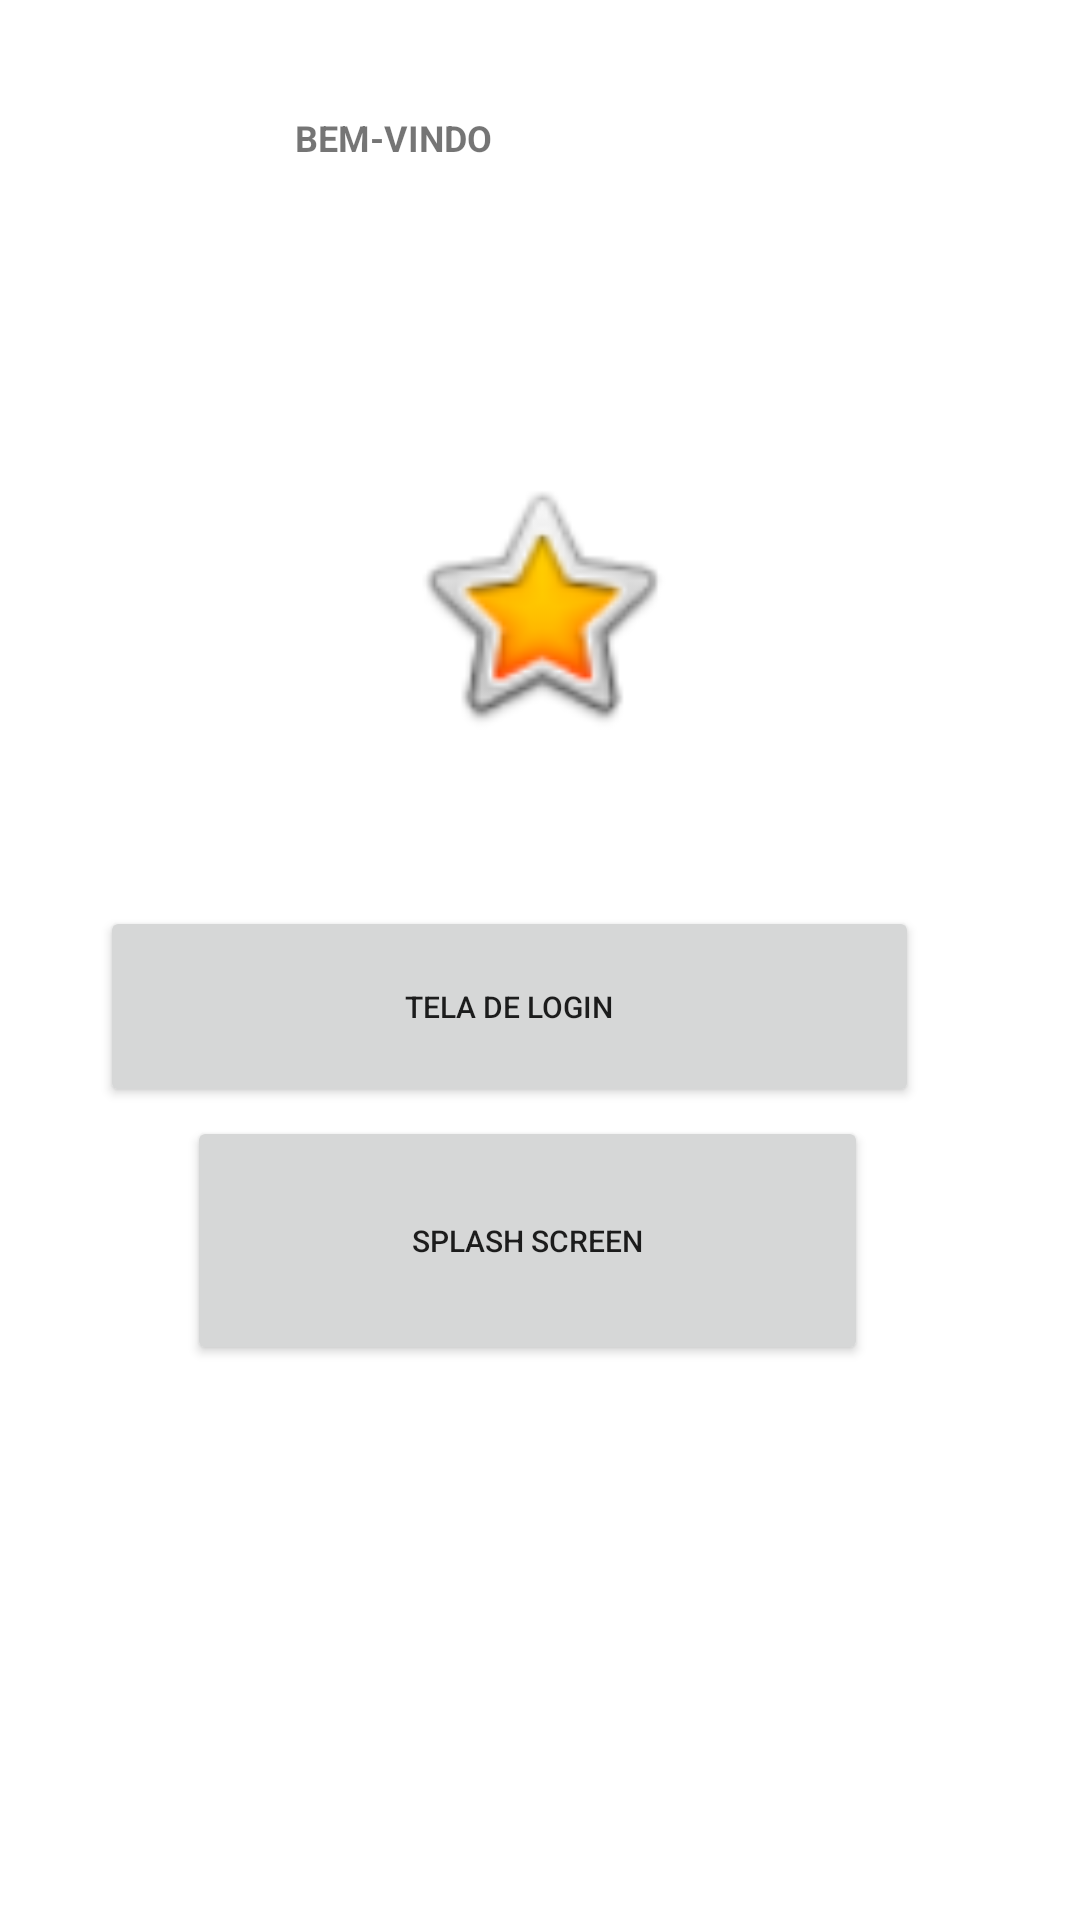

Locate icon controls on the screen. Image size 1080 x 1920, boxes as (x1, y1, x2, y2).
star on: (427, 494, 658, 719)
